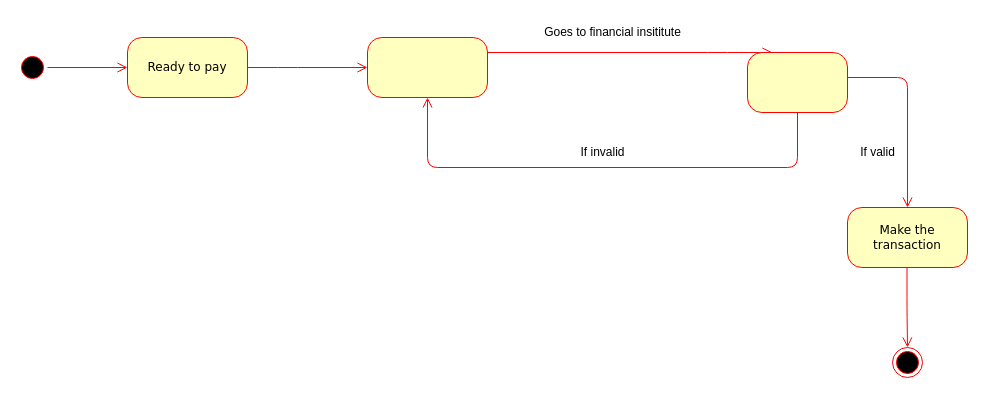
The diagram is 985 pixels wide and 395 high, and some of its shapes have lost their labels. The centre of each missing label's shape, as x and y in pixels:
"Check if card is valid and has enough money" goes at point (797, 82).
"Enter credit card details" goes at point (427, 67).
